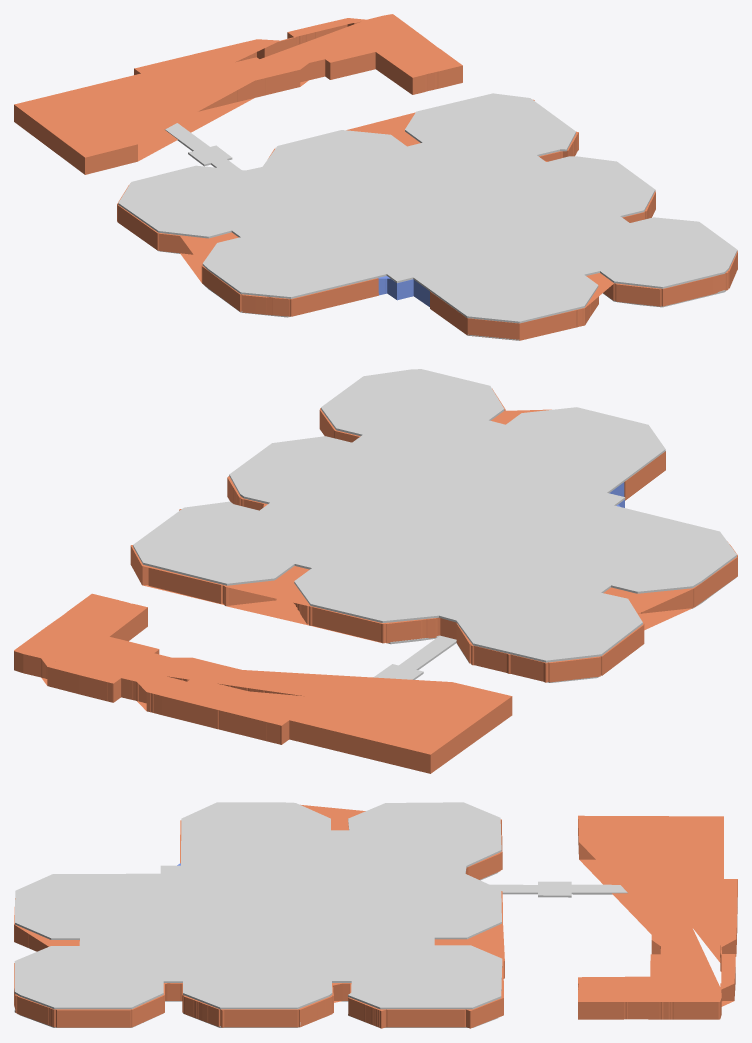
File: FIXED zp23 second floor with ceilings (1).fbx
The picture shows the model from 3 angles, top to bottom: view 1: azimuth 30°, elevation 25°; view 2: azimuth 150°, elevation 25°; view 3: azimuth 270°, elevation 25°; orthographic projection. The views are drawn at different scales.
Parts seen in each view (by area): view 1: 2nd floor ceiling, 2nd floor, 1st floor ceiling, path2; view 2: 2nd floor ceiling, 2nd floor, 1st floor ceiling; view 3: 2nd floor ceiling, 2nd floor, 1st floor ceiling.
Boxes of the visible parts, x1=… form: 2nd floor ceiling: x1=118, y1=93, x2=737, y2=323; 2nd floor: x1=14, y1=14, x2=737, y2=340; 1st floor ceiling: x1=158, y1=123, x2=726, y2=317; path2: x1=378, y1=276, x2=429, y2=306; 2nd floor ceiling: x1=133, y1=369, x2=736, y2=662; 2nd floor: x1=14, y1=388, x2=737, y2=773; 1st floor ceiling: x1=373, y1=577, x2=736, y2=682; 2nd floor ceiling: x1=14, y1=802, x2=502, y2=1009; 2nd floor: x1=14, y1=804, x2=737, y2=1028; 1st floor ceiling: x1=14, y1=872, x2=627, y2=1027.
Size of the model in its own units: 9010 by 431 by 13298.
